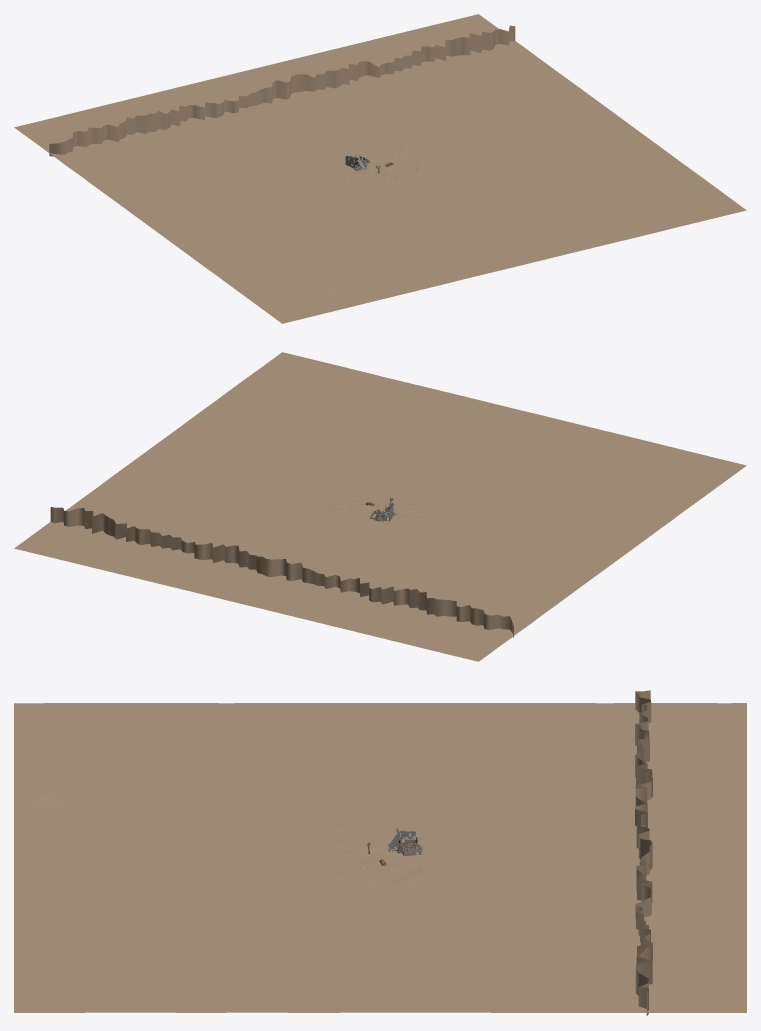
File: _backup_before_tree_v2.glb
3 views of the same model, one above another, from view 1: azimuth 30°, elevation 25°; view 2: azimuth 150°, elevation 25°; view 3: azimuth 270°, elevation 25° (orthographic). The views are drawn at different scales.
Parts seen in each view (by area): view 1: wst_terrain_ground_far, wst_bg_ridge_01, wst_terrain_ground; view 2: wst_terrain_ground_far, wst_bg_ridge_01, wst_terrain_ground; view 3: wst_terrain_ground_far, wst_bg_ridge_01, wst_terrain_ground.
Part boxes in pixels (x1,y1,x2,y2): wst_terrain_ground_far: (14, 14, 746, 323); wst_bg_ridge_01: (49, 25, 515, 156); wst_terrain_ground: (320, 146, 440, 191); wst_terrain_ground_far: (14, 352, 746, 661); wst_bg_ridge_01: (50, 507, 513, 637); wst_terrain_ground: (320, 484, 440, 529); wst_terrain_ground_far: (14, 703, 746, 1012); wst_bg_ridge_01: (635, 690, 652, 1015); wst_terrain_ground: (334, 828, 426, 886).
Bounding box in the file's own units: 320 × 14.14 × 320.
